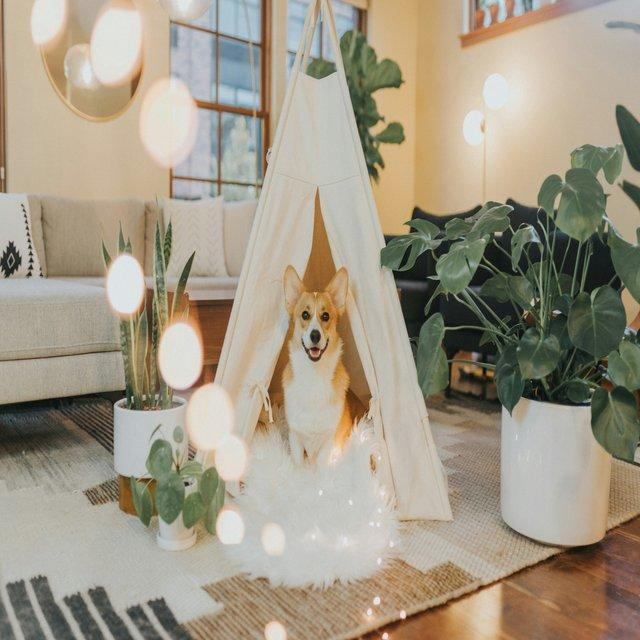corgi: (277, 263, 367, 466)
